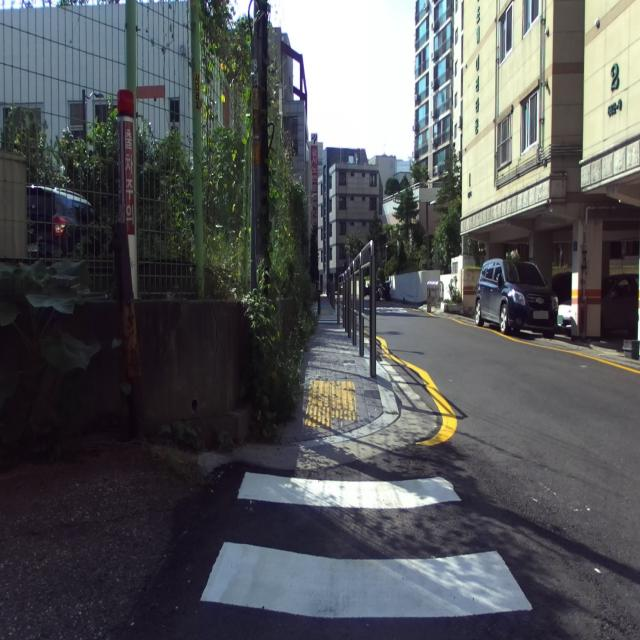횡단보도: (201, 472, 533, 618)
